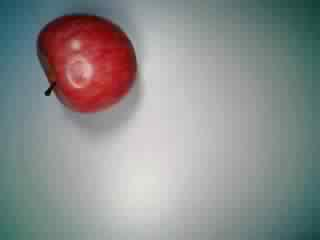apple: (36, 14, 135, 112)
